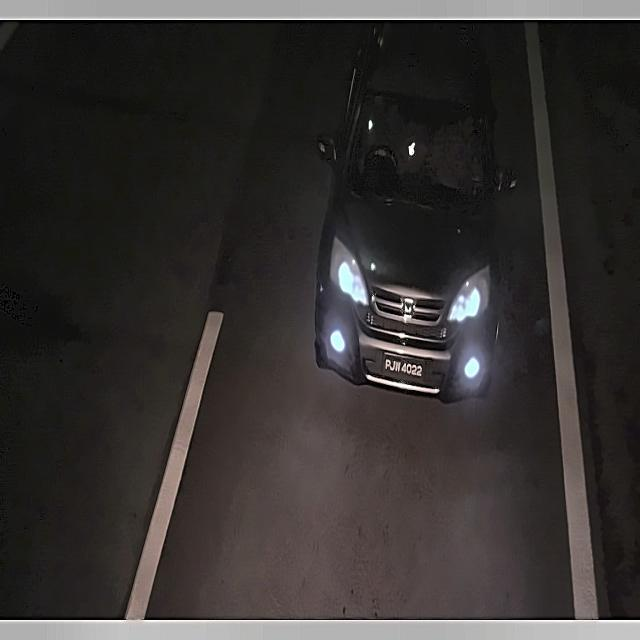car: (378, 344, 429, 388)
